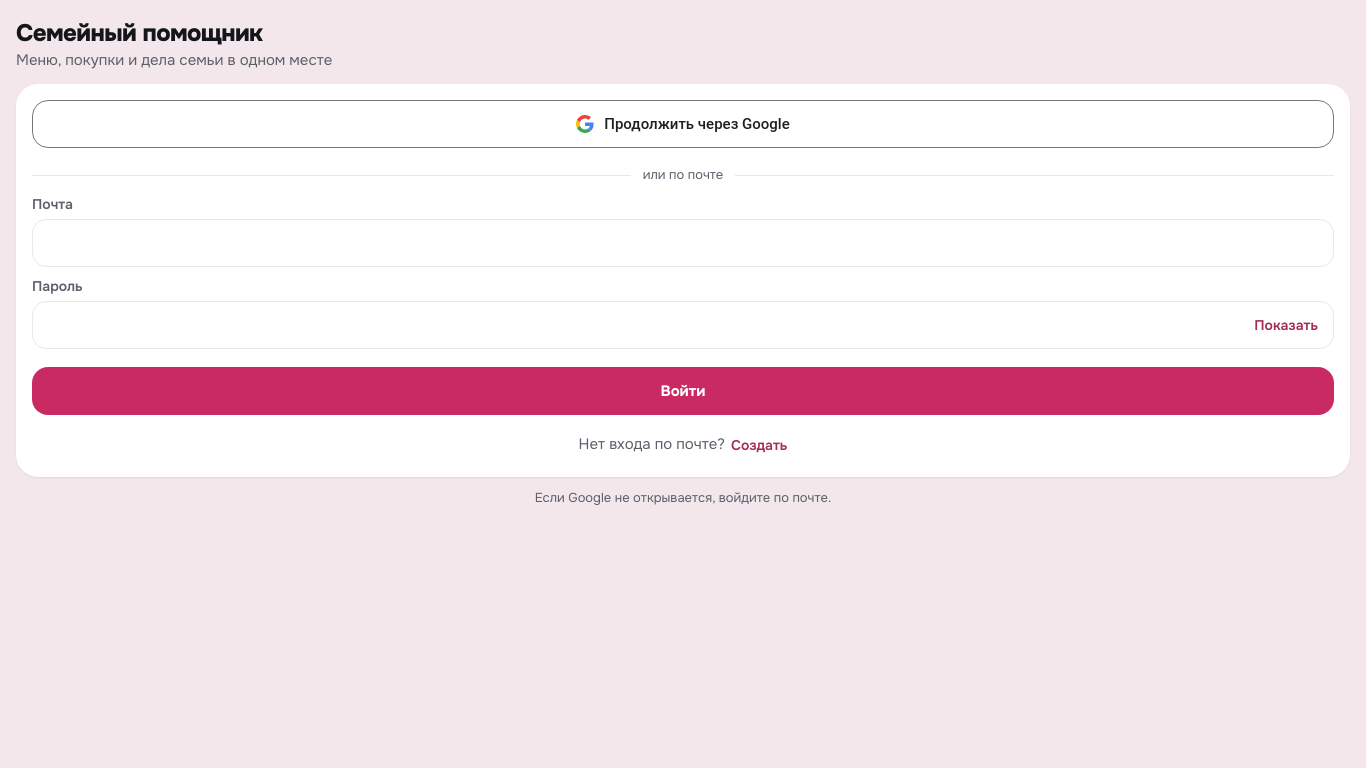
Test case: SignIn › keeps the person here with a plain message while Google sign-in is switched off on the server
Click the button "Продолжить через Google": (683, 124) x1=32 y1=100 x2=1334 y2=148
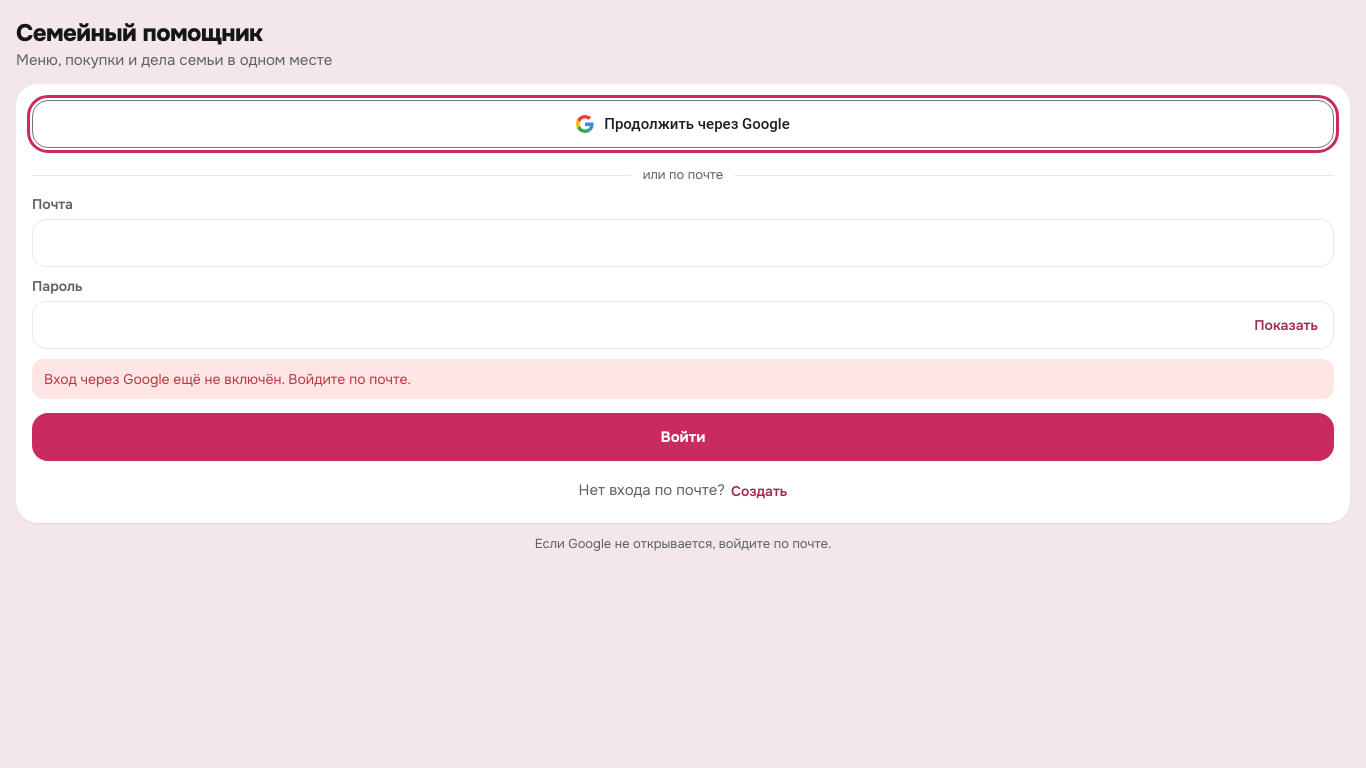
Result: the message reads "Вход через Google ещё не включён. Войдите по почте." at x1=44 y1=370 x2=411 y2=388
